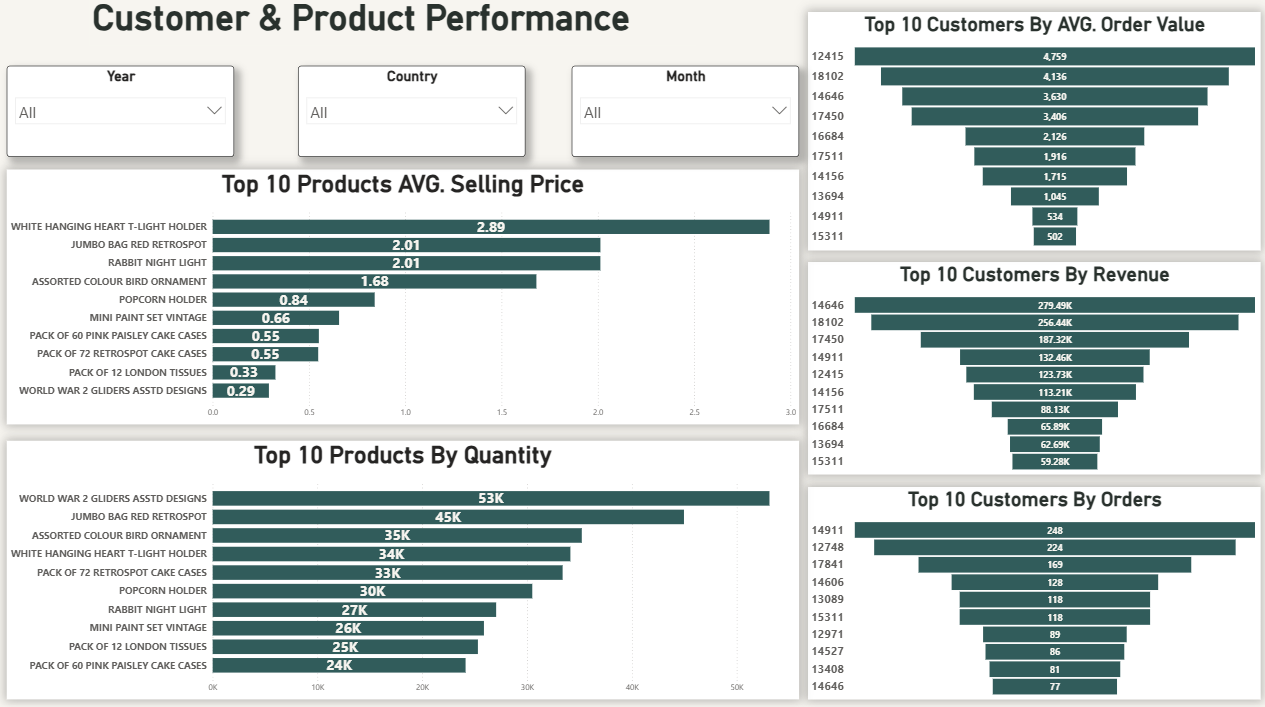

The page's visual inventory and layout, read from the dashboard file:
{"tool":"powerbi","page":{"name":"Customers & Products Analysis","canvas":[1920,1080],"ordinal":1},"visuals":[{"type":"funnel","title":"Top 10 Customers By Orders","fields":{"Y":["Mesure.Totla Orders"],"Category":["online_retail.Customer ID"]},"box":[1222.6,739.6,684.9,320.8],"z":0},{"type":"funnel","title":"Top 10 Customers By Revenue","fields":{"Category":["online_retail.Customer ID"],"Y":["Mesure.Total Revenue"]},"box":[1222.6,400,684.9,320.8],"z":1000},{"type":"textbox","title":"Customer & Product Performance","box":[137.7,0,917,73.6],"z":2000},{"type":"funnel","title":"Top 10 Customers By AVG. Order Value","fields":{"Category":["online_retail.Customer ID"],"Y":["Mesure.AVG. Order Value"]},"box":[1222.6,22.6,684.9,360.4],"z":3000},{"type":"slicer","title":"Year","fields":{"Values":["online_retail.InvoiceDate.Variation.Date Hierarchy.Year"]},"box":[13.2,103.8,343.4,137.7],"z":4000},{"type":"barChart","title":"Top 10 Products By Quantity","fields":{"Y":["Sum(online_retail.Quantity)"],"Category":["online_retail.Description"]},"box":[13.2,669.8,1196.2,390.6],"z":5000},{"type":"barChart","title":"Top 10 Products AVG. Selling Price","fields":{"Category":["online_retail.Description"],"Y":["Mesure.Average Selling Price"]},"box":[13.2,260.4,1196.2,384.9],"z":6000},{"type":"slicer","title":"Country","fields":{"Values":["online_retail.Country"]},"box":[452.8,103.8,343.4,137.7],"z":7000},{"type":"slicer","title":"Month","fields":{"Values":["online_retail.InvoiceDate.Variation.Date Hierarchy.Month"]},"box":[866,103.8,343.4,137.7],"z":7001}]}

Visuals, with their boxes in screenshot pixels (x1, y1, x2, y2), scaled from the page's 1920x1080 canvas onto the 1265x707 screenshot:
"Top 10 Customers By Orders" funnel: pyautogui.locateOnScreen(806, 484, 1257, 694)
"Top 10 Customers By Revenue" funnel: pyautogui.locateOnScreen(806, 262, 1257, 472)
"Customer & Product Performance" textbox: pyautogui.locateOnScreen(91, 0, 695, 48)
"Top 10 Customers By AVG. Order Value" funnel: pyautogui.locateOnScreen(806, 15, 1257, 251)
"Year" slicer: pyautogui.locateOnScreen(9, 68, 235, 158)
"Top 10 Products By Quantity" barChart: pyautogui.locateOnScreen(9, 438, 797, 694)
"Top 10 Products AVG. Selling Price" barChart: pyautogui.locateOnScreen(9, 170, 797, 422)
"Country" slicer: pyautogui.locateOnScreen(298, 68, 525, 158)
"Month" slicer: pyautogui.locateOnScreen(571, 68, 797, 158)
